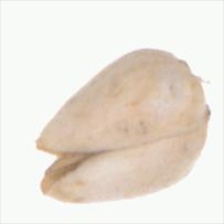L3: (32, 134, 90, 196)
L4: (36, 49, 213, 203)
